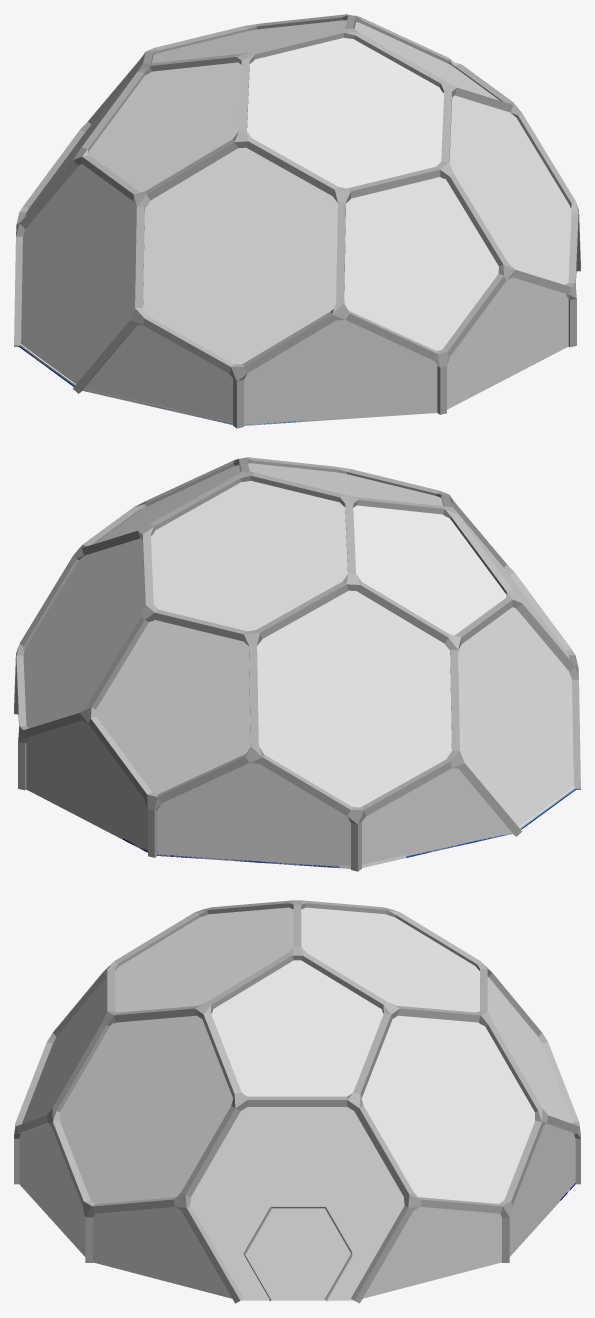
Rendered from KPN_Lobby_Lotte.fbx.
3 views of the same model, one above another, from view 1: azimuth 30°, elevation 25°; view 2: azimuth 150°, elevation 25°; view 3: azimuth 270°, elevation 25° (orthographic). The views are drawn at different scales.
Parts seen in each view (by area): view 1: Shell, ShellFrame, MatSmall; view 2: Shell, ShellFrame, MatBig; view 3: Shell, ShellFrame, ShellDoor, ShellFrameDoor.
Part boxes in pixels (<box>): Shell: <box>21,20,576,425</box>; ShellFrame: <box>14,14,580,428</box>; MatSmall: <box>19,344,232,423</box>; Shell: <box>18,463,573,867</box>; ShellFrame: <box>14,457,580,871</box>; MatBig: <box>123,789,576,867</box>; Shell: <box>19,907,575,1300</box>; ShellFrame: <box>14,900,580,1303</box>; ShellDoor: <box>246,1208,350,1300</box>; ShellFrameDoor: <box>243,1206,352,1301</box>.
Size of the model in its own units: 36.71 by 18.43 by 36.57.
Materials: 7 (3 with a texture image).
